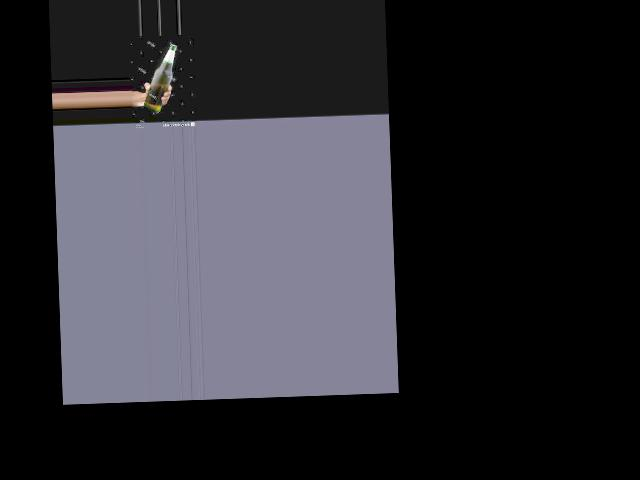beer: (141, 43, 179, 114)
